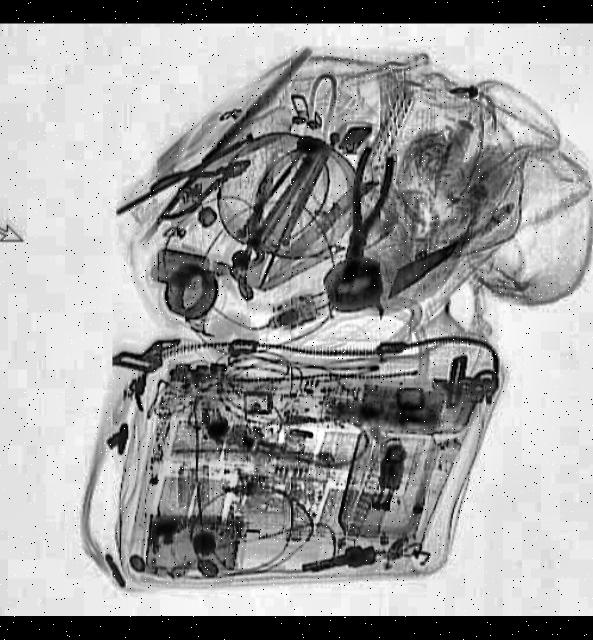Pliers: (149, 143, 260, 228), (335, 146, 400, 276)
